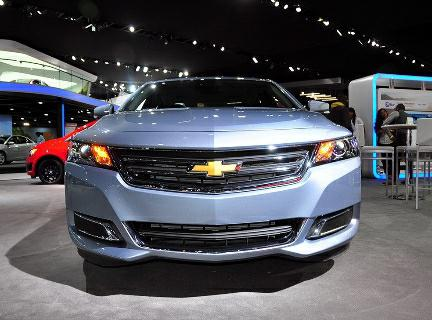雪佛兰-Impala: (58, 71, 367, 271)
